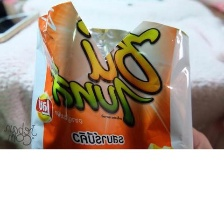snack: (23, 0, 200, 148)
